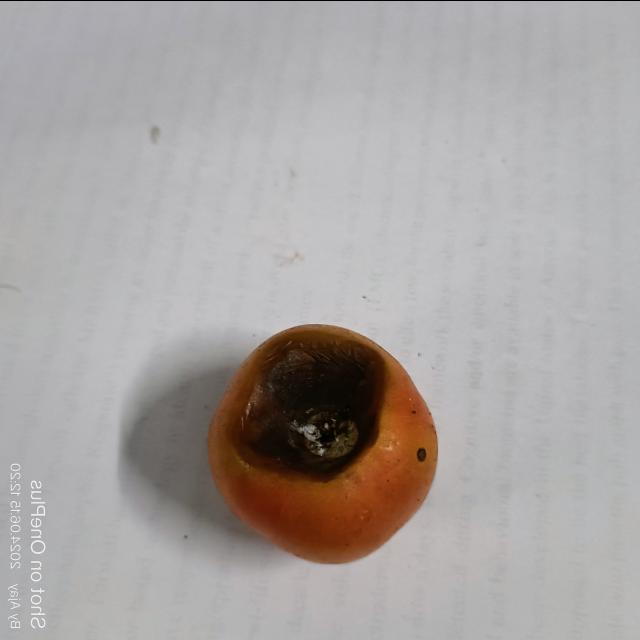Anthrocnose: (227, 330, 393, 480)
